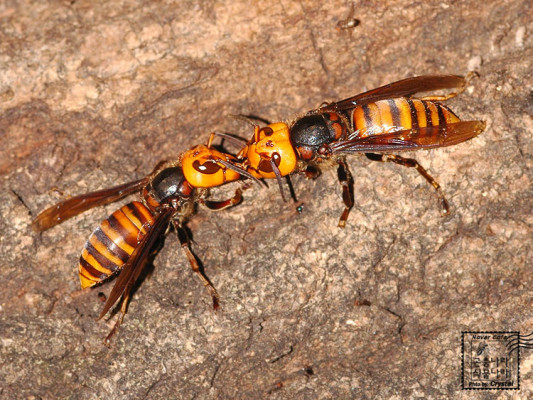asian_giant_hornet: (77, 129, 245, 293), (237, 76, 464, 182)
